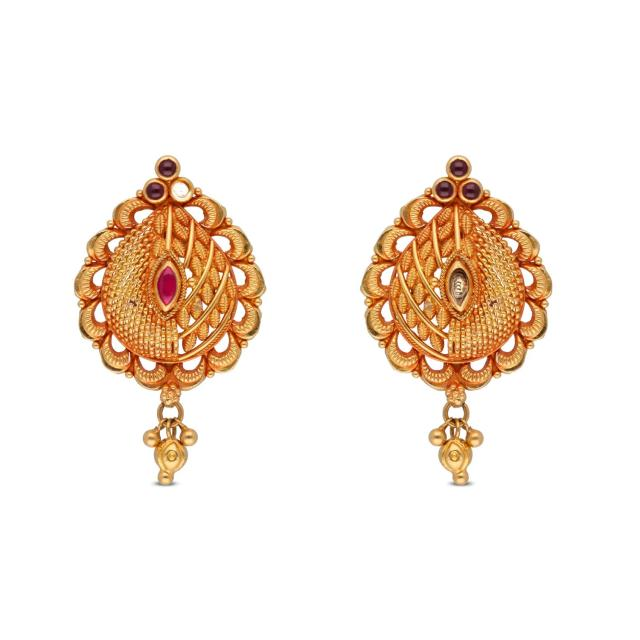missing gem: (449, 264, 469, 308), (173, 181, 191, 199)
